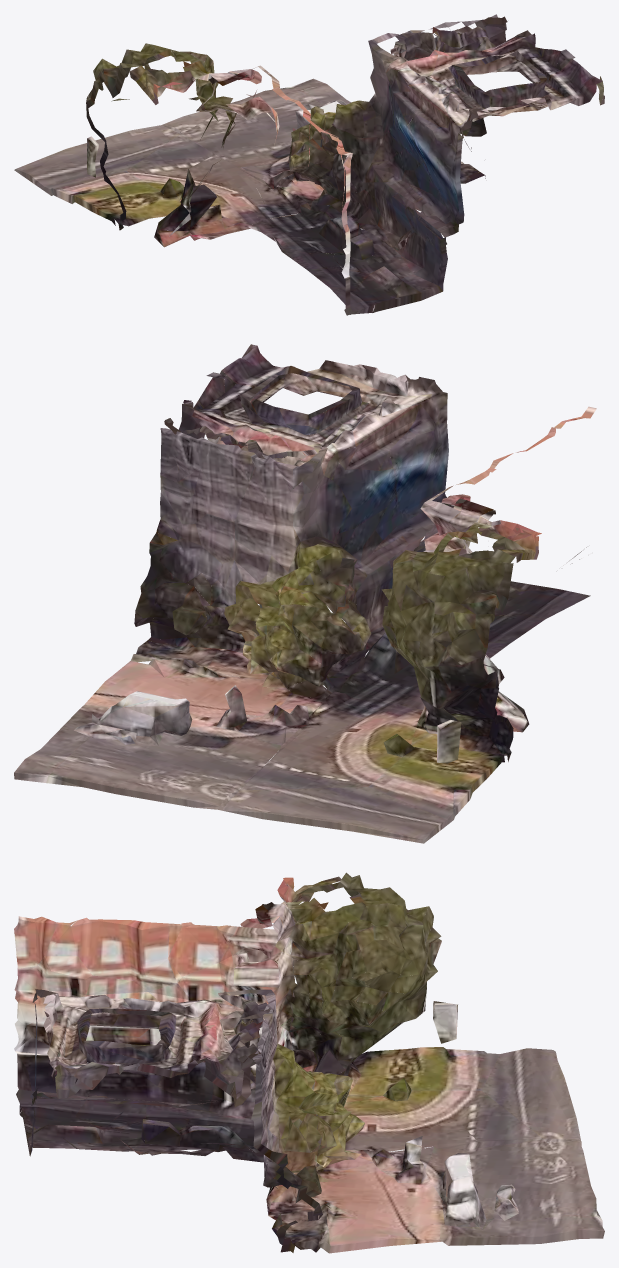
The picture shows the model from 3 angles, top to bottom: view 1: azimuth 30°, elevation 25°; view 2: azimuth 150°, elevation 25°; view 3: azimuth 270°, elevation 25°; orthographic projection. The views are drawn at different scales.
Parts seen in each view (by area): view 1: Mesh_0; view 2: Mesh_0; view 3: Mesh_0.
Boxes of the visible parts, bbox=[...] form: Mesh_0: bbox=[14, 14, 604, 315]; Mesh_0: bbox=[14, 344, 596, 843]; Mesh_0: bbox=[14, 872, 604, 1253].
Size of the model in its own units: 33.28 by 15.55 by 41.03.
Materials: 2 (2 with a texture image).
